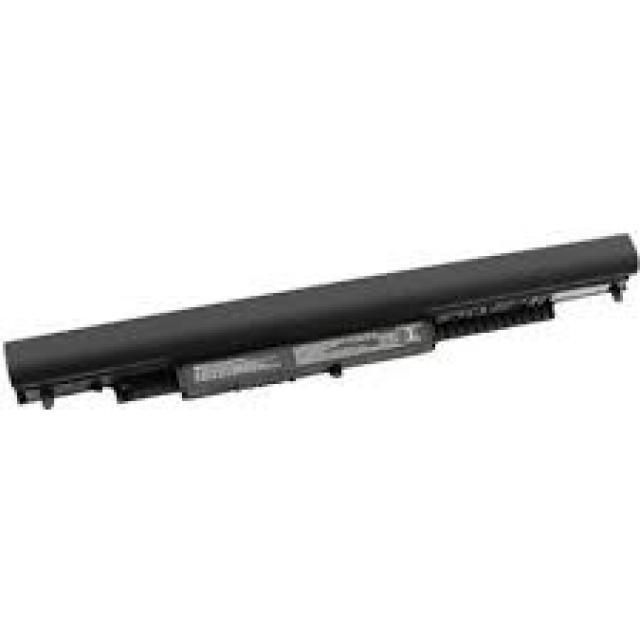battery: (2, 233, 640, 424)
